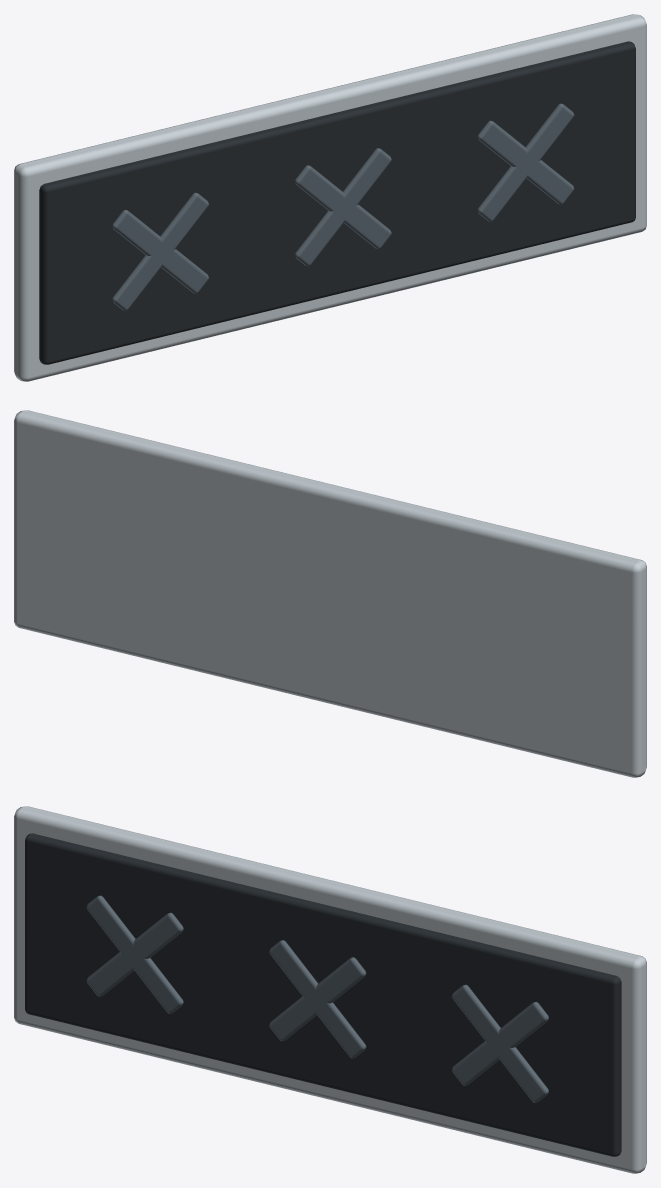
Rendered from SM_XPanel.glb.
3 renders of one model, top to bottom at view 1: azimuth 30°, elevation 25°; view 2: azimuth 150°, elevation 25°; view 3: azimuth 330°, elevation 25°, orthographic.
Visible parts, largest first — view 1: SM_XPanel, SM_XPanel.X_2, SM_XPanel.X_3, SM_XPanel.X_1; view 2: SM_XPanel; view 3: SM_XPanel, SM_XPanel.X_2, SM_XPanel.X_1, SM_XPanel.X_3.
Part boxes in pixels (bbox=[...]): SM_XPanel: bbox=[14, 14, 646, 381]; SM_XPanel.X_2: bbox=[294, 148, 391, 266]; SM_XPanel.X_3: bbox=[477, 103, 574, 221]; SM_XPanel.X_1: bbox=[112, 192, 209, 310]; SM_XPanel: bbox=[14, 410, 646, 777]; SM_XPanel: bbox=[14, 806, 646, 1173]; SM_XPanel.X_2: bbox=[269, 940, 366, 1058]; SM_XPanel.X_1: bbox=[86, 895, 183, 1013]; SM_XPanel.X_3: bbox=[451, 984, 548, 1102].
Bounding box in the file's own units: 1.1 × 0.36 × 0.062.
2 materials, 2 textured.
